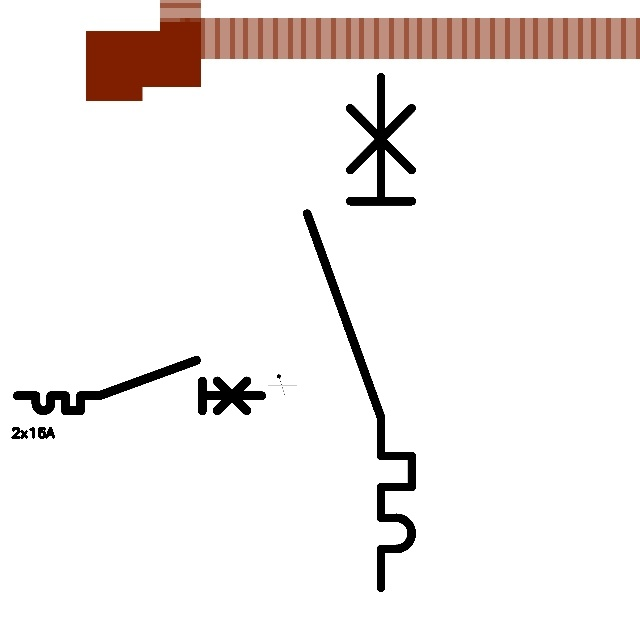interruptor_termomagnetico: (294, 64, 425, 601), (11, 354, 267, 417)
